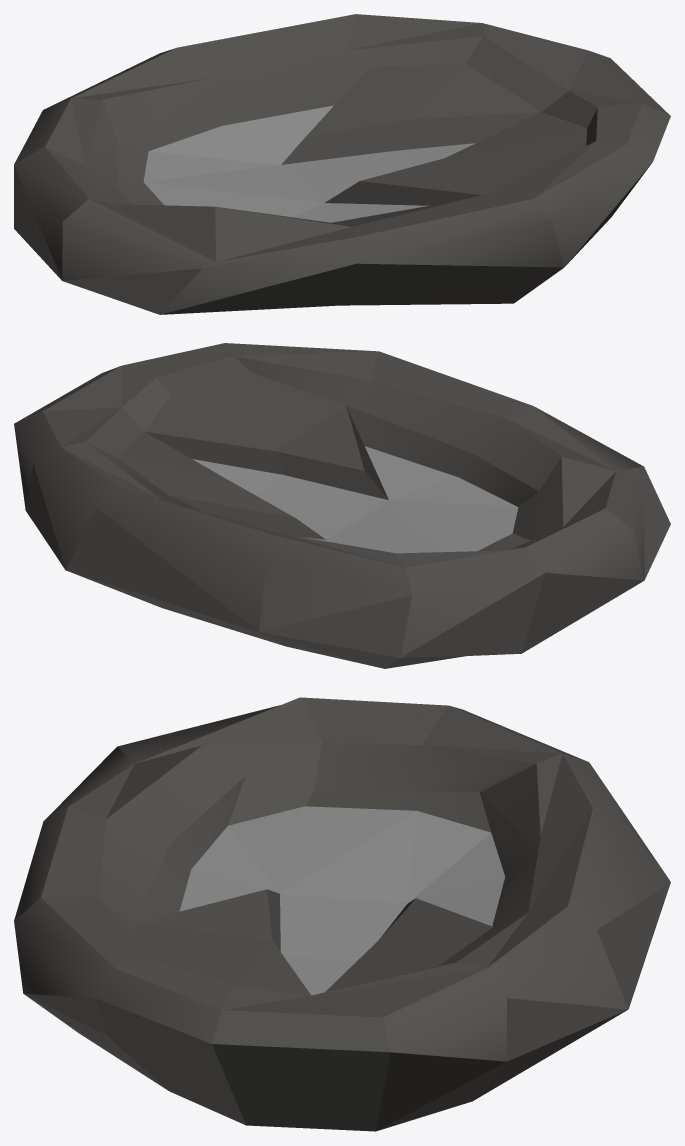
File: fossil 4.fbx
The picture shows the model from 3 angles, top to bottom: view 1: azimuth 30°, elevation 25°; view 2: azimuth 150°, elevation 25°; view 3: azimuth 270°, elevation 25°; orthographic projection. The views are drawn at different scales.
Parts seen in each view (by area): view 1: pCube10; view 2: pCube10; view 3: pCube10.
Boxes of the visible parts, <box> form: pCube10: <box>14,14,670,314</box>; pCube10: <box>14,343,670,668</box>; pCube10: <box>14,697,670,1131</box>.
Bounding box in the file's own units: 1.97 × 0.5018 × 1.58.
